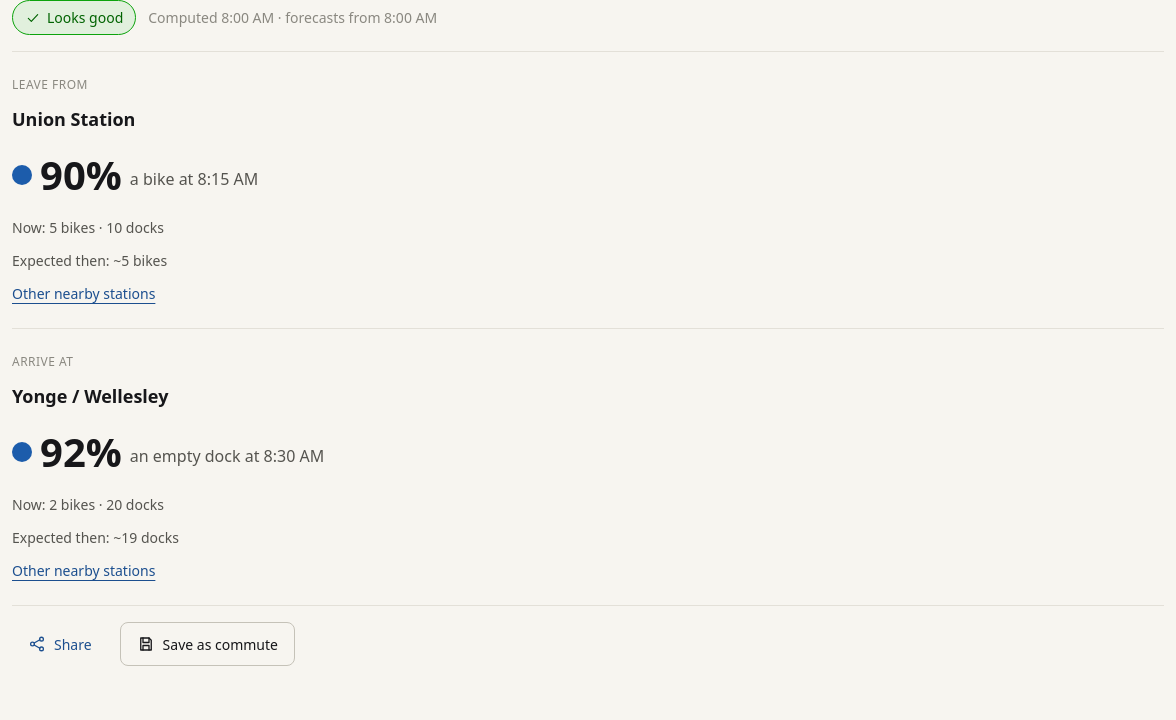
TripResult › Share click copies the URL and toasts "Link copied"
Click the button "Share". click: (60, 644)
box: [12,622,108,666]
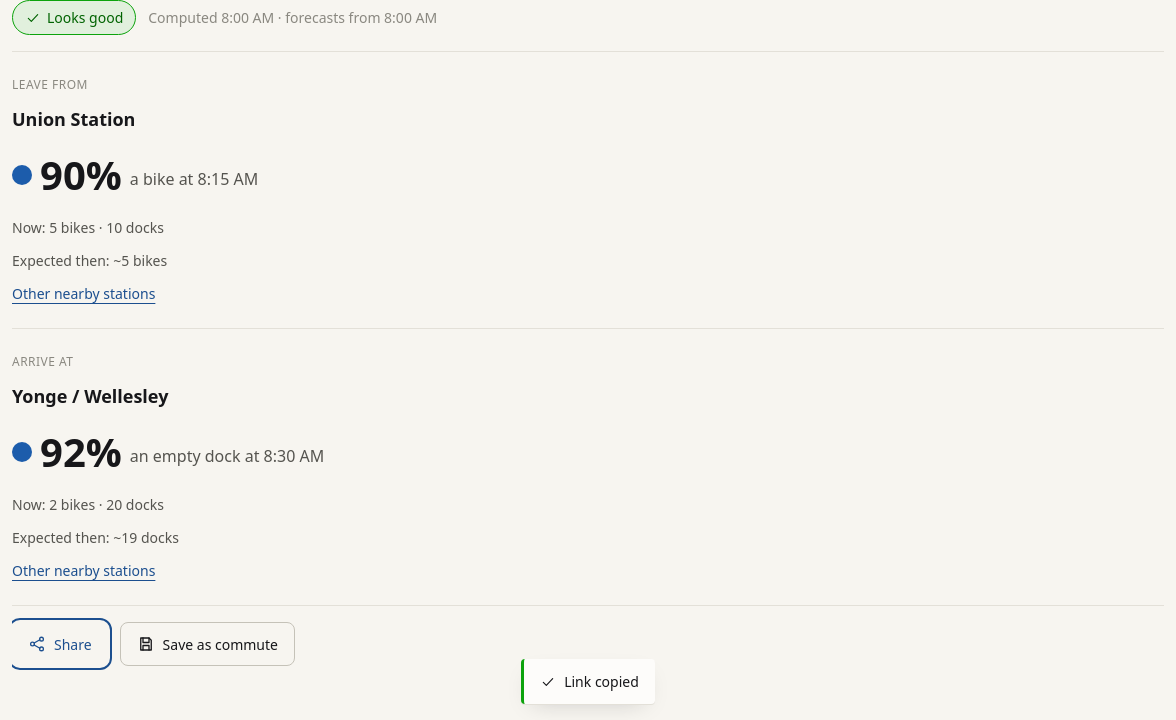
Now the text "Link copied" is shown, box [521,659,655,704]
